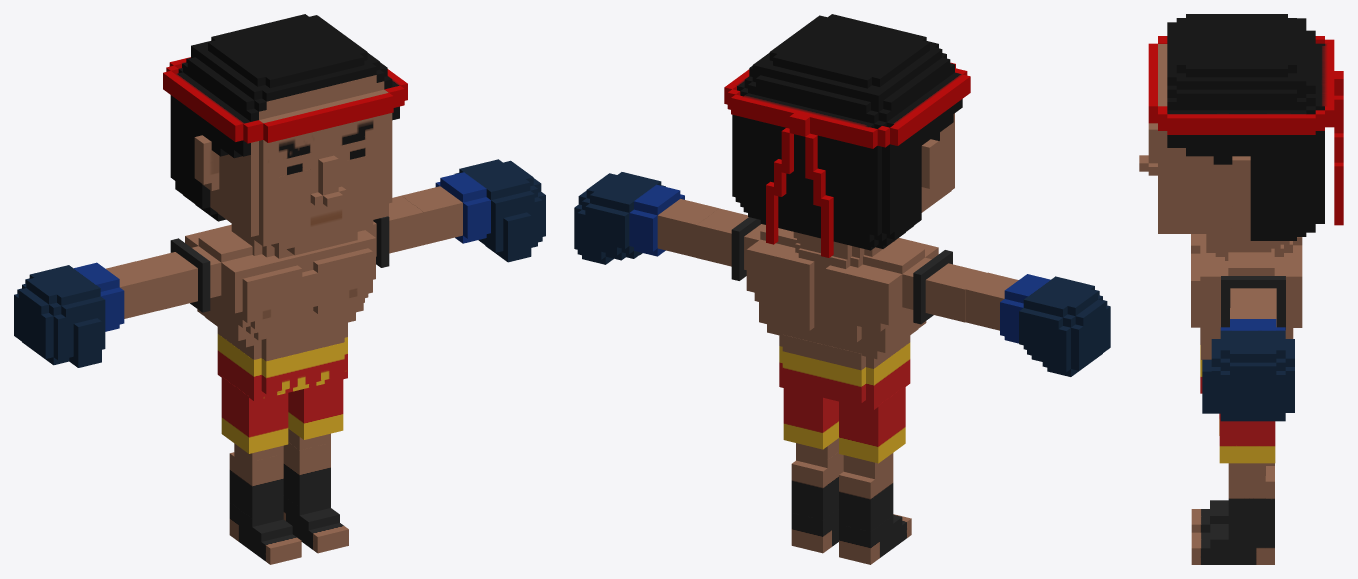
The model's file is the-dancer.fbx.
The picture shows the model from 3 angles, left to right: view 1: azimuth 30°, elevation 25°; view 2: azimuth 150°, elevation 25°; view 3: azimuth 270°, elevation 25°; orthographic projection. The views are drawn at different scales.
Visible parts, largest first — view 1: head, gloves-c2, chest, shorts-c2, arms, calves, shoes, forearms; view 2: head, chest, gloves-c2, shorts-c2, arms, calves, forearms, shoes, neck; view 3: head, gloves-c2, chest, shoes, shorts-c2, calves, arms, neck, forearms.
Part boxes in pixels (x1,y1,x2,y2): head: (163,14,407,255); gloves-c2: (14,159,545,367); chest: (185,224,375,361); shorts-c2: (217,334,347,464); arms: (137,196,423,312); calves: (229,442,330,518); shoes: (229,496,348,564); forearms: (106,186,462,318); head: (724,14,970,257); chest: (746,227,938,370); gloves-c2: (574,172,1110,376); shorts-c2: (779,342,910,474); arms: (696,208,986,324); calves: (791,452,893,531); forearms: (657,199,1018,330); shoes: (791,509,911,564); neck: (793,232,894,267); head: (1139,14,1343,240); gloves-c2: (1202,319,1294,421); chest: (1191,234,1302,359); shoes: (1191,500,1274,564); shorts-c2: (1200,345,1275,475); calves: (1228,463,1274,531); arms: (1221,276,1285,329); neck: (1206,232,1289,260); forearms: (1230,308,1276,326).
Size of the model in its own units: 639 by 599 by 220.
Materials: 1 (1 with a texture image).
